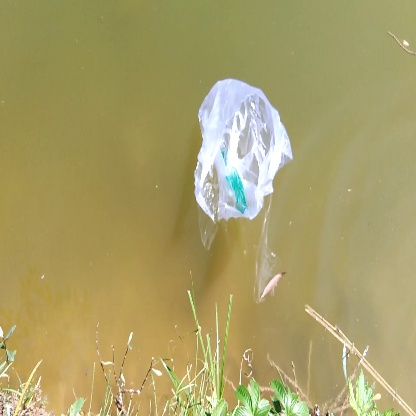plastic-bag: (188, 79, 296, 221)
